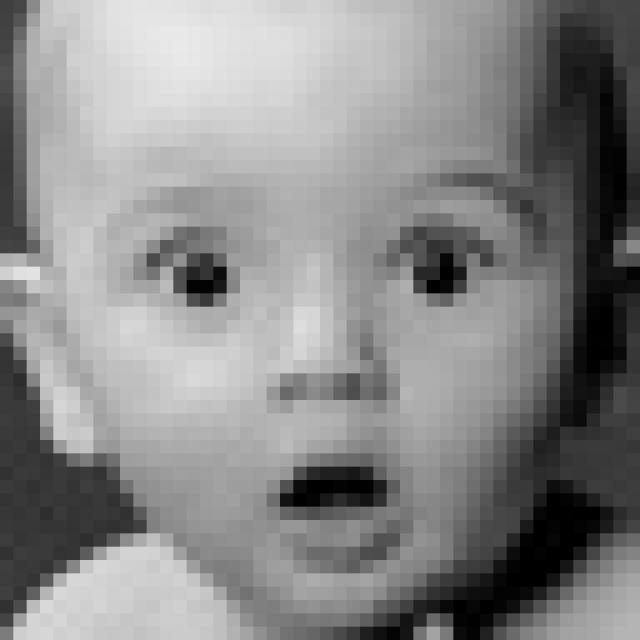surprise: (87, 162, 557, 572)
